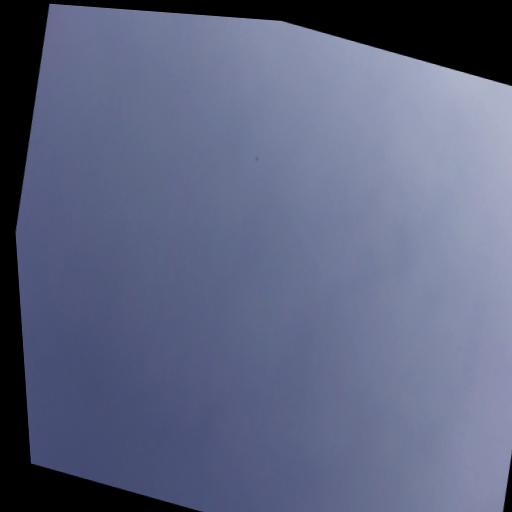drones: (254, 154, 259, 162)
